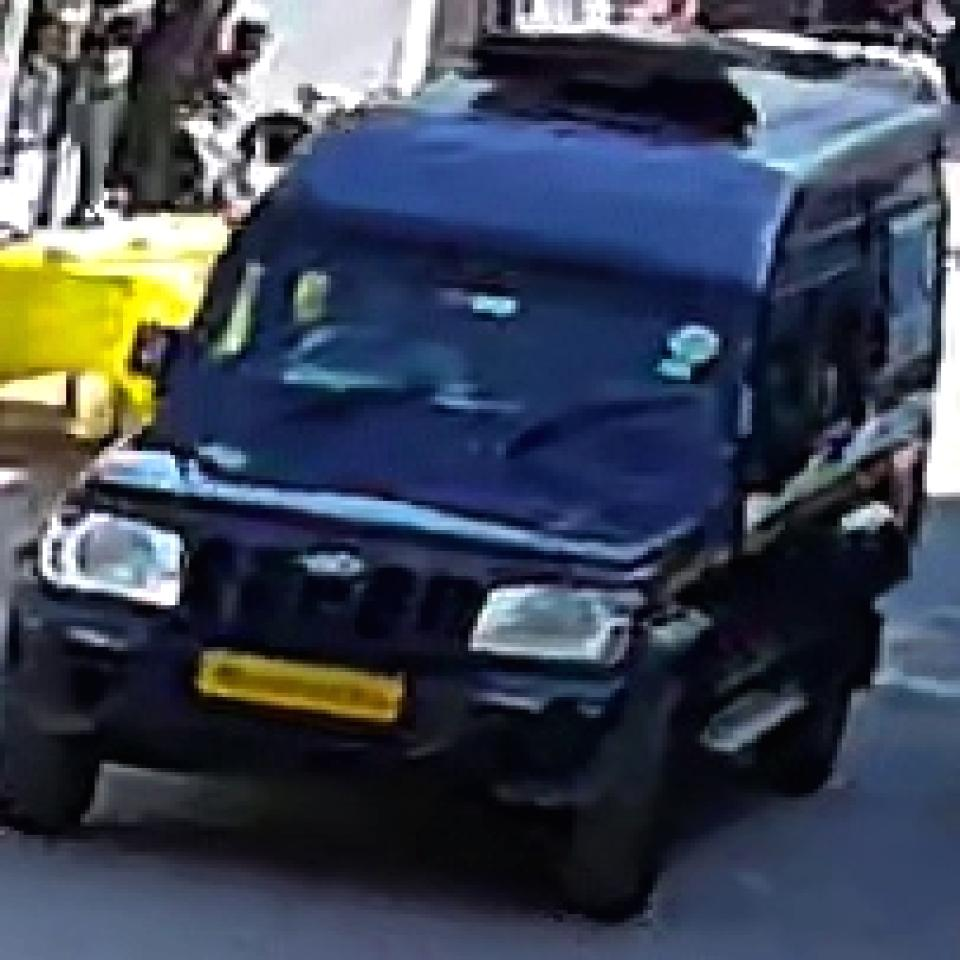head_light: (38, 510, 186, 608), (465, 584, 639, 664)
